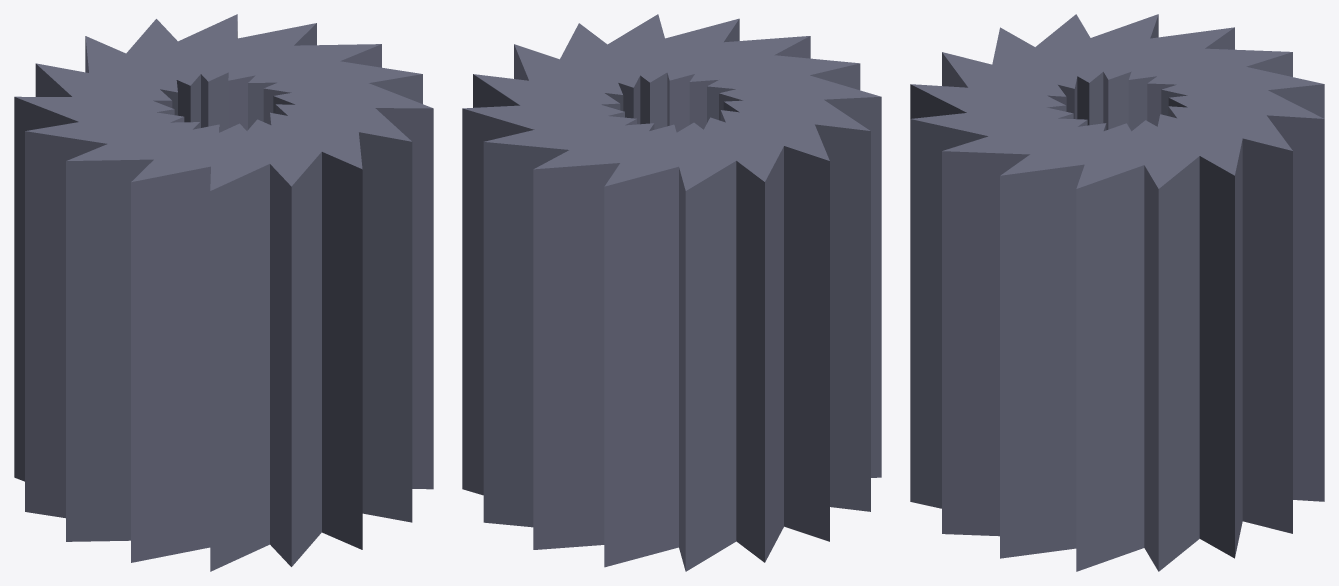
File: circular saw.glb
The picture shows the model from 3 angles, left to right: view 1: azimuth 30°, elevation 25°; view 2: azimuth 150°, elevation 25°; view 3: azimuth 270°, elevation 25°; orthographic projection.
Parts seen in each view (by area): view 1: Cylinder; view 2: Cylinder; view 3: Cylinder.
Part boxes in pixels (x1=…): Cylinder: x1=14, y1=14, x2=433, y2=571; Cylinder: x1=462, y1=14, x2=881, y2=571; Cylinder: x1=910, y1=14, x2=1324, y2=571.
Size of the model in its own units: 1.96 by 2 by 1.96.
